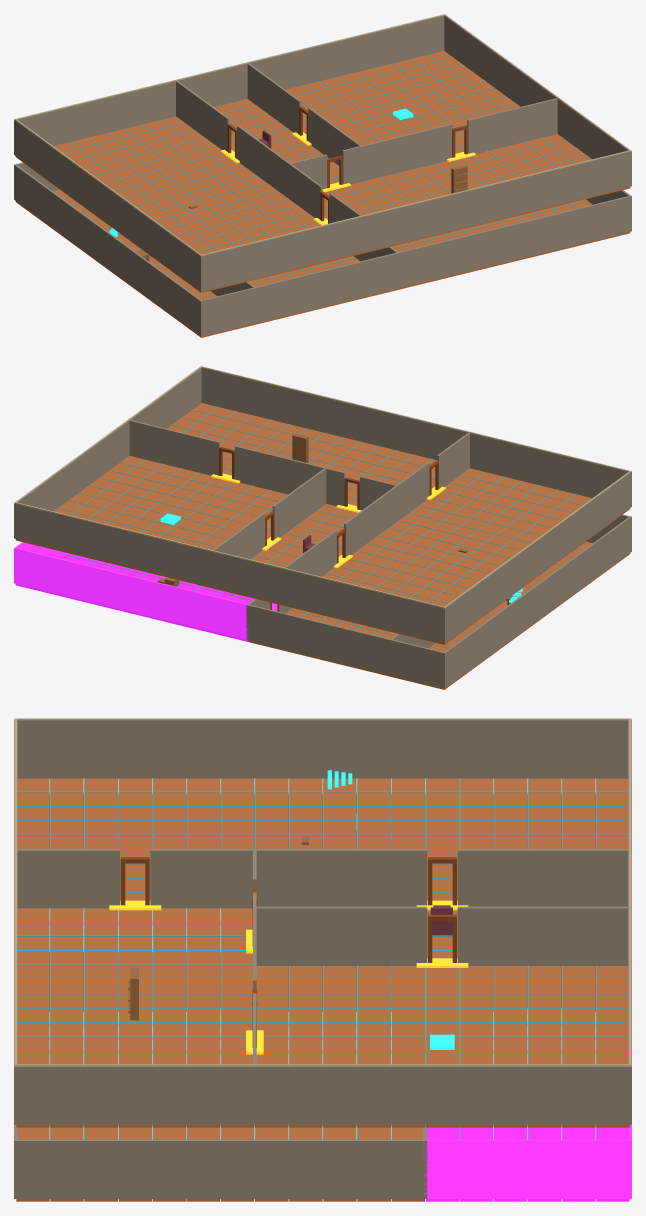
The picture shows the model from 3 angles, top to bottom: view 1: azimuth 30°, elevation 25°; view 2: azimuth 150°, elevation 25°; view 3: azimuth 270°, elevation 25°; orthographic projection. The views are drawn at different scales.
Visible parts, largest first — view 1: Walls_manor_upper_public, Floor_manor_upper_interior_floor_public, Walls_manor_ground_public, Grid_manor_upper_public, Floor_manor_ground_interior_floor_public, FacadeGrammar_manor, ConnectorVisual_manor_upper_manor_door_public, Grid_manor_ground_public; view 2: Walls_manor_upper_public, Floor_manor_upper_interior_floor_public, Walls_manor_ground_public, Walls_manor_ground_dm_only, Grid_manor_upper_public, FacadeGrammar_manor, Floor_manor_ground_interior_floor_public, Floor_manor_ground_secret_floor_dm_only, ConnectorVisual_manor_upper_manor_door_public; view 3: Walls_manor_upper_public, Floor_manor_upper_interior_floor_public, Walls_manor_ground_public, Grid_manor_upper_public, Walls_manor_ground_dm_only, Floor_manor_ground_interior_floor_public, FacadeGrammar_manor, Floor_manor_ground_secret_floor_dm_only, ConnectorVisual_manor_upper_manor_door_public.
Part boxes in pixels (x1,y1,x2,y2): Walls_manor_upper_public: (14,15,631,291); Floor_manor_upper_interior_floor_public: (15,51,630,292); Walls_manor_ground_public: (14,162,631,336); Grid_manor_upper_public: (63,54,587,251); Floor_manor_ground_interior_floor_public: (15,189,630,337); FacadeGrammar_manor: (14,14,631,256); ConnectorVisual_manor_upper_manor_door_public: (227,106,467,223); Grid_manor_ground_public: (62,196,587,296); Walls_manor_upper_public: (14,367,631,643); Floor_manor_upper_interior_floor_public: (15,403,630,644); Walls_manor_ground_public: (246,514,631,688); Walls_manor_ground_dm_only: (14,542,248,639); Grid_manor_upper_public: (58,406,582,603); FacadeGrammar_manor: (14,366,631,608); Floor_manor_ground_interior_floor_public: (248,541,630,689); Floor_manor_ground_secret_floor_dm_only: (15,551,254,641); ConnectorVisual_manor_upper_manor_door_public: (219,447,438,563); Walls_manor_upper_public: (14,719,631,1124); Floor_manor_upper_interior_floor_public: (16,778,629,1127); Walls_manor_ground_public: (14,793,595,1198); Grid_manor_upper_public: (17,778,628,1064); Walls_manor_ground_dm_only: (423,1124,631,1198); Floor_manor_ground_interior_floor_public: (16,1127,424,1201); FacadeGrammar_manor: (14,718,631,1066); Floor_manor_ground_secret_floor_dm_only: (425,1127,629,1201); ConnectorVisual_manor_upper_manor_door_public: (120,857,456,1047).
Size of the model in its own units: 24.11 by 4.43 by 18.11.
